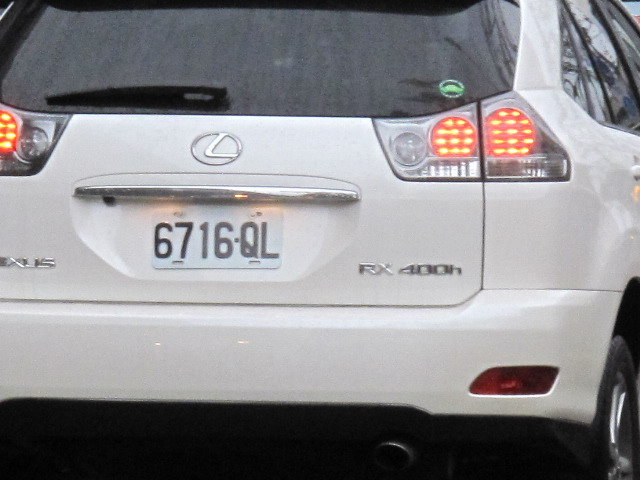plate: (150, 209, 288, 270)
